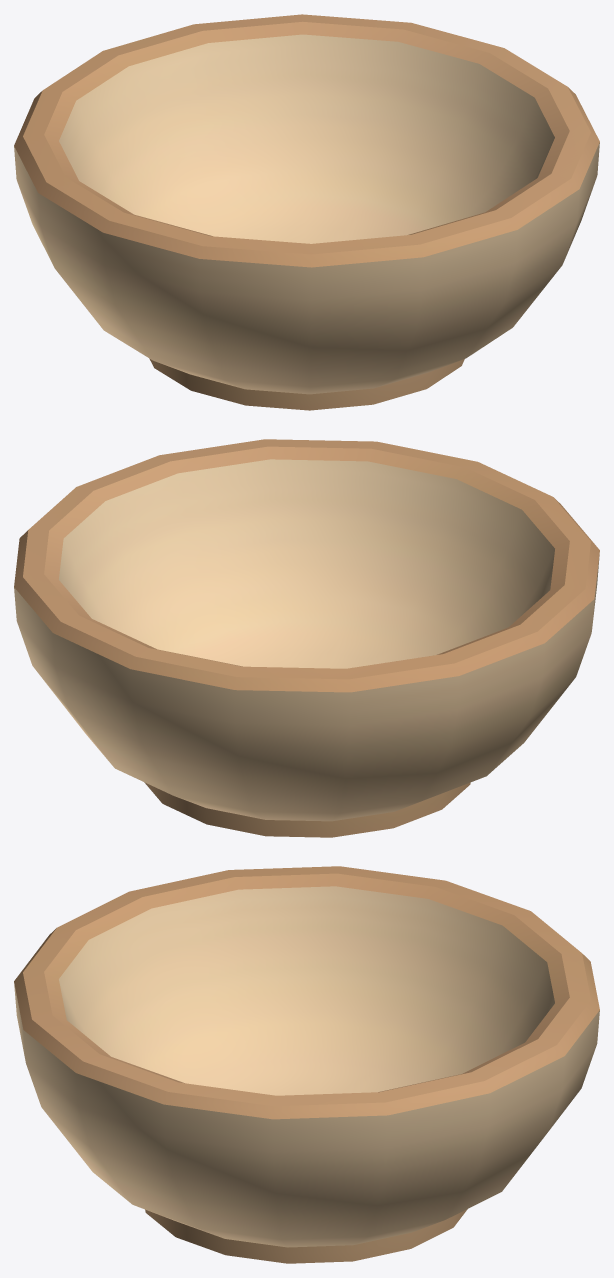
File: Bowl_1_A.glb
3 views of the same model, one above another, from view 1: azimuth 30°, elevation 25°; view 2: azimuth 150°, elevation 25°; view 3: azimuth 270°, elevation 25° (orthographic).
Visible parts, largest first — view 1: Bowl_1_A; view 2: Bowl_1_A; view 3: Bowl_1_A.
Part boxes in pixels (x1,y1,x2,y2): Bowl_1_A: (14,14,599,410); Bowl_1_A: (14,439,599,837); Bowl_1_A: (14,866,599,1263).
Size of the model in its own units: 0.4119 by 0.1643 by 0.4119.
Materials: 1 (1 with a texture image).
